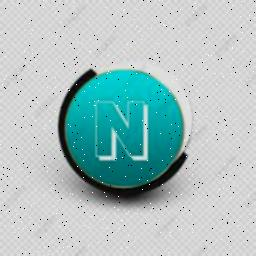n: (92, 95, 150, 165)
